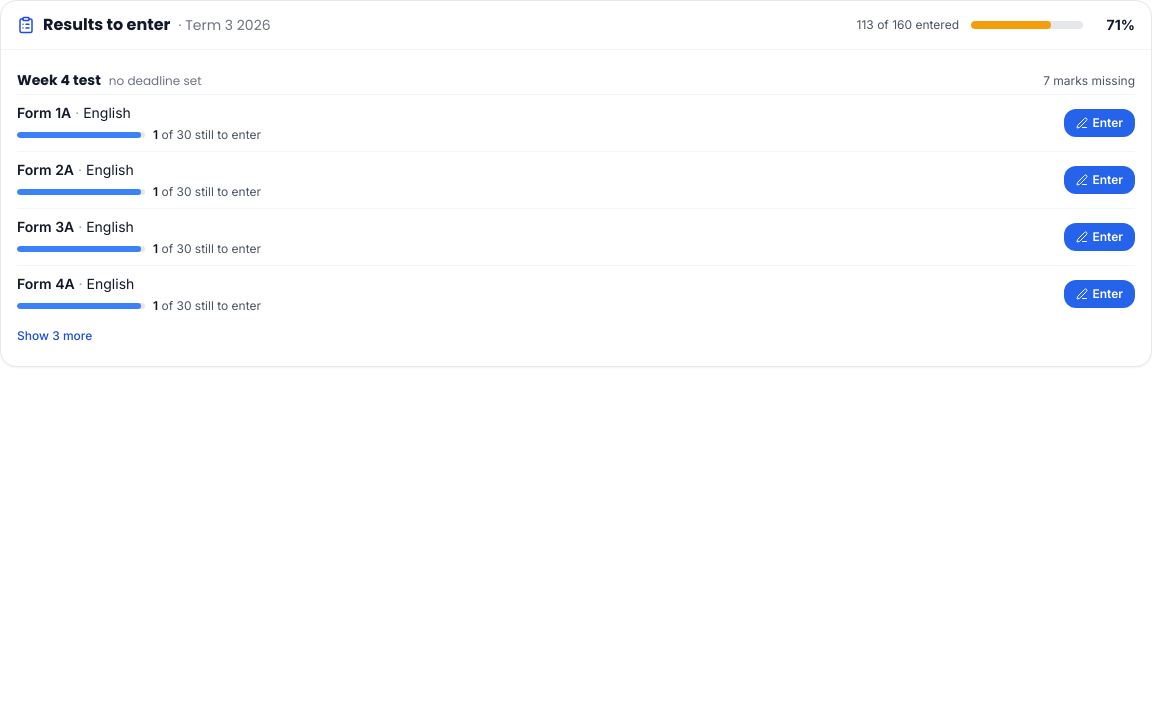
it: TeacherResultsWarning › long lists show 4 rows and a Show more button
Expected: the text "no deadline set" is shown, [109,72,202,89]
Expected: the number of list items is 4, [17,95,1135,151]; [17,151,1135,208]; [17,208,1135,265]; [17,265,1135,322]
Click the button "Show 3 more". click: [55, 336]
box: [17,328,92,344]
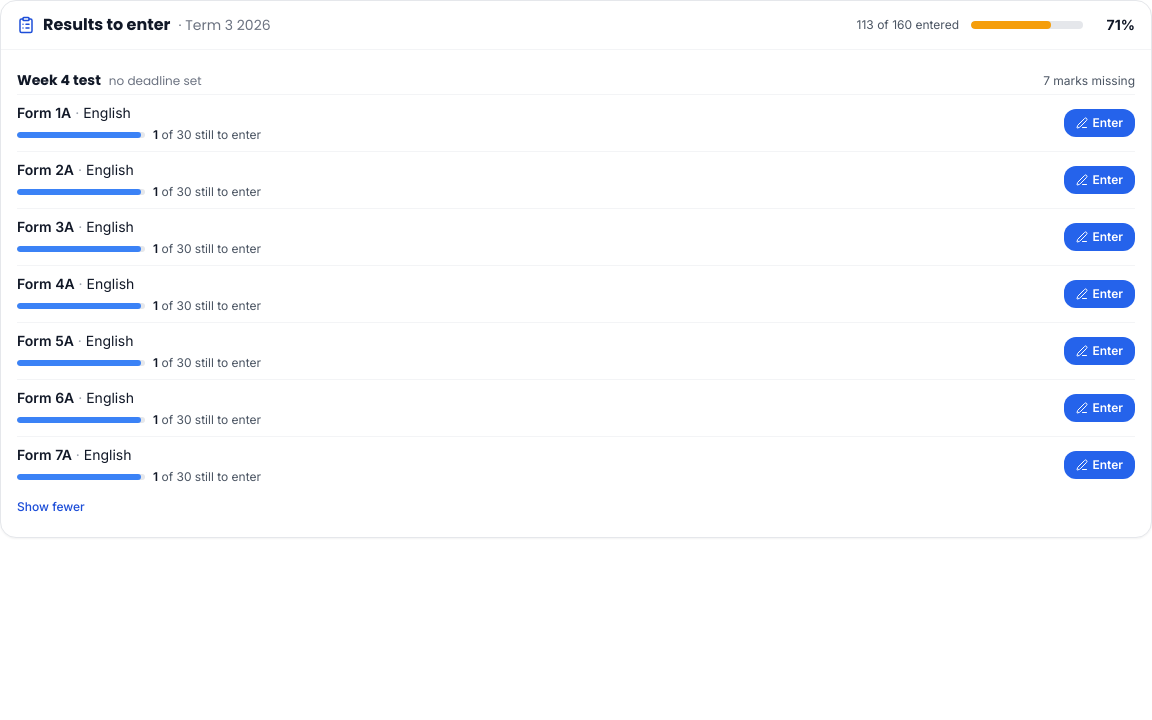
Expected: the number of list items is 7
